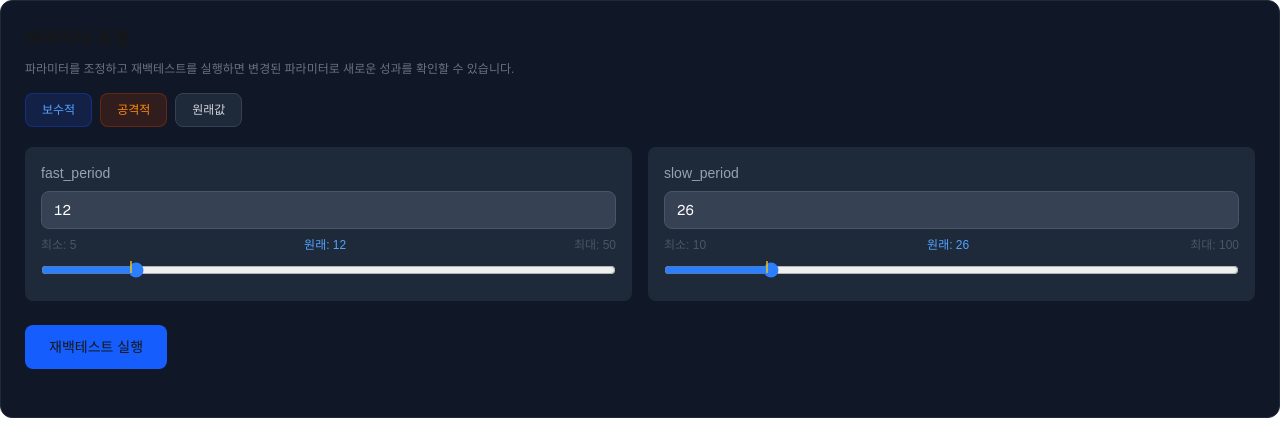
Test case: ParamAdjustTab › resets to original values
// First apply a preset
Click the button "공격적".
click(134, 110)  # box [100,93,167,127]
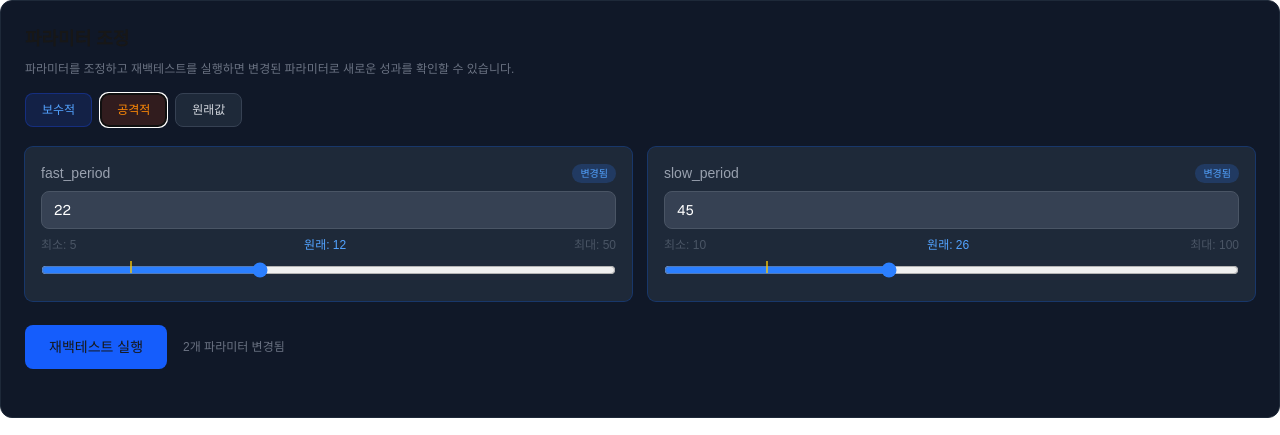
// Then reset
Click the button "원래값".
click(209, 110)  # box [175,93,242,127]
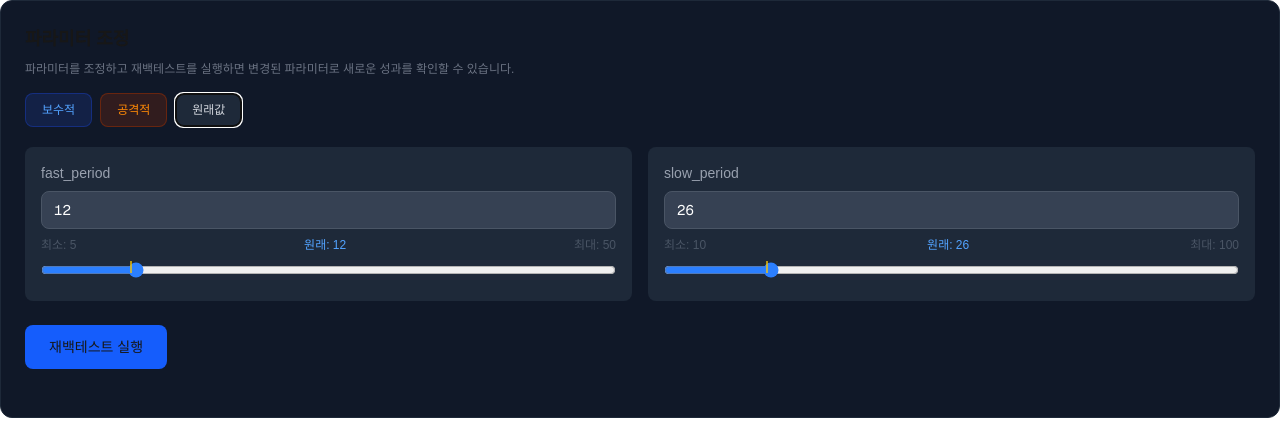
Expected: the number field below "fast_period" holds "12", [41,191,616,229]
Expected: the number field below "slow_period" holds "26", [664,191,1239,229]
